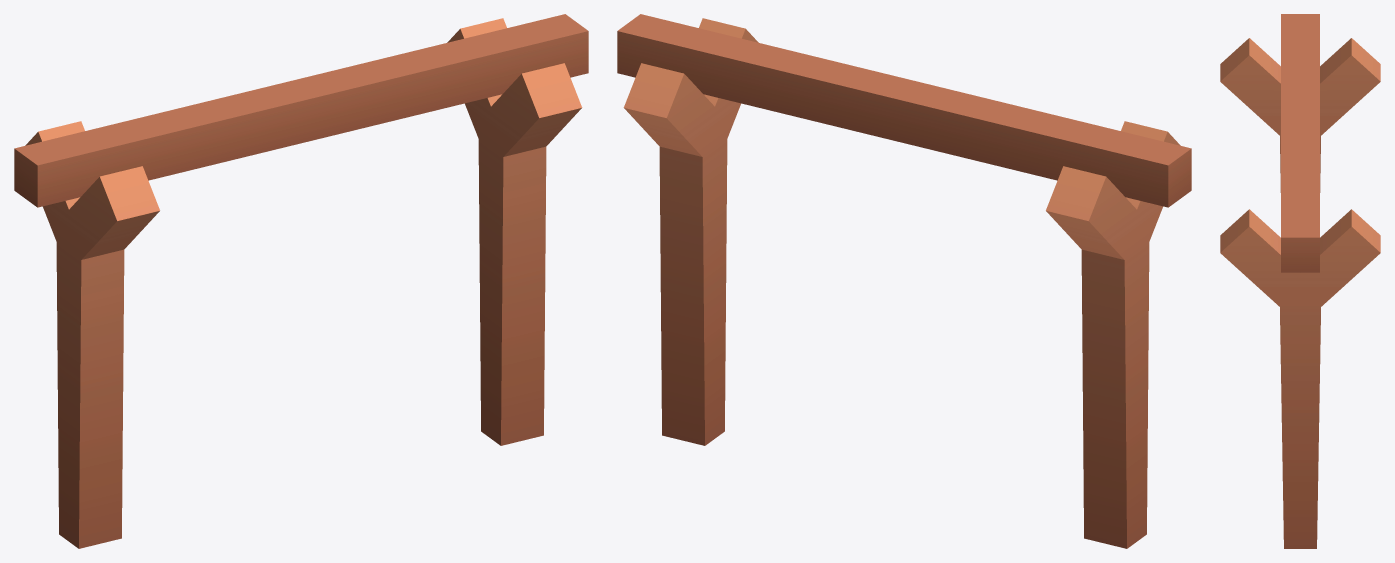
Rendered from marmite.glb.
3 renders of one model, left to right at view 1: azimuth 30°, elevation 25°; view 2: azimuth 150°, elevation 25°; view 3: azimuth 270°, elevation 25°, orthographic. The views are drawn at different scales.
Visible parts, largest first — view 1: campfire-stand; view 2: campfire-stand; view 3: campfire-stand.
Boxes of the visible parts, bbox=[...] form: campfire-stand: bbox=[14, 14, 588, 548]; campfire-stand: bbox=[617, 14, 1191, 548]; campfire-stand: bbox=[1220, 14, 1380, 548].
Bounding box in the file's own units: 2.2 × 1.51 × 0.6677.
Materials: 1 (1 with a texture image).
